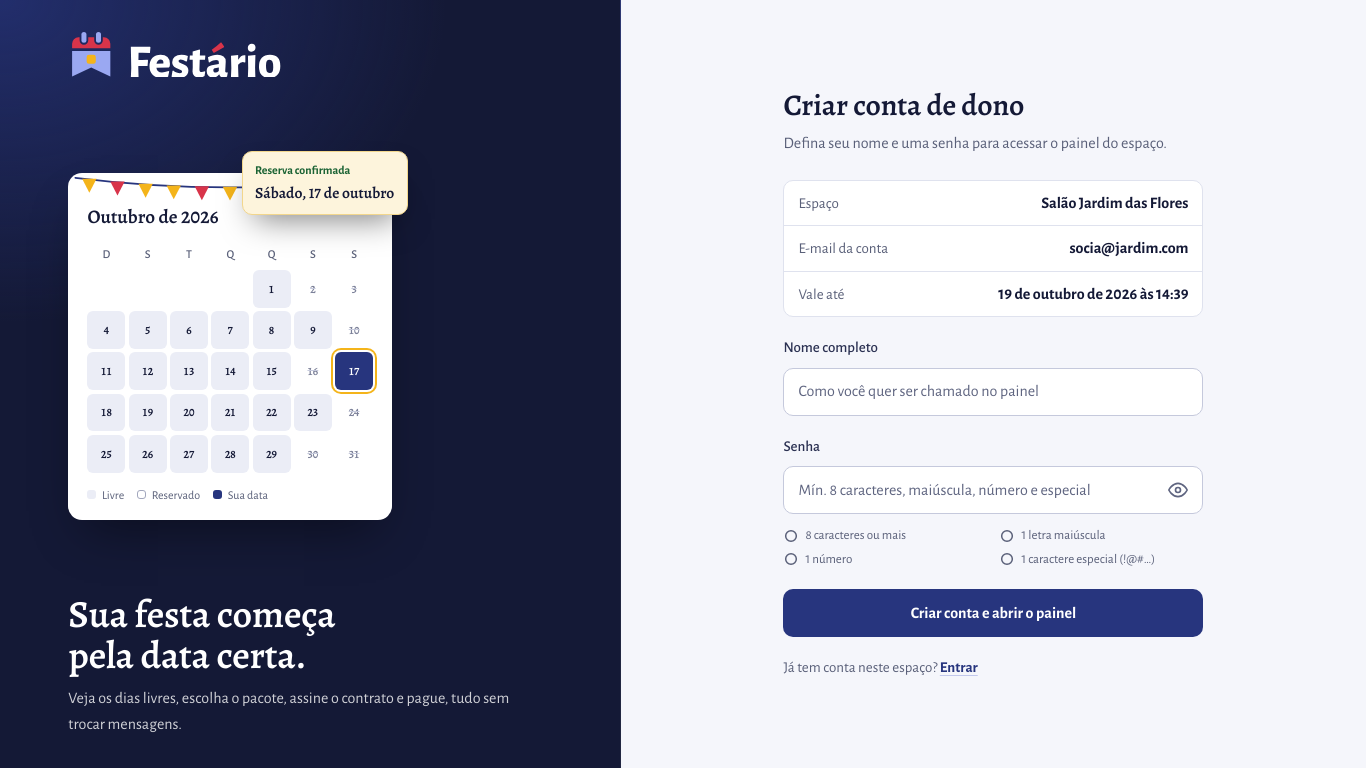
it: InviteAccept - aceite › explains EMAIL_ALREADY_IN_USE inline
The image size is (1366, 768).
In the field labelled "Nome completo": (993, 392) [783,368,1203,416], type "Sócia Nova"
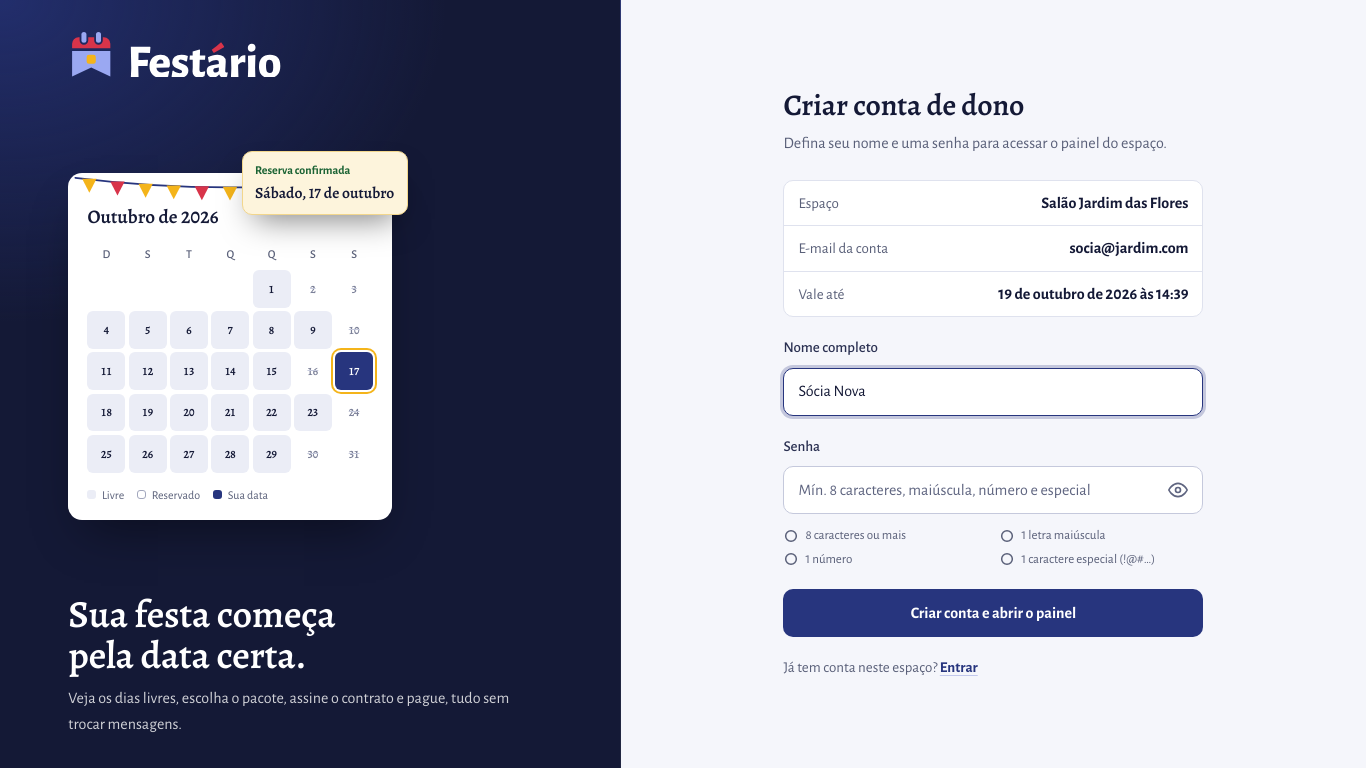
In the password field labelled "Senha": (979, 490) [798,467,1160,513], type "Senha@123"
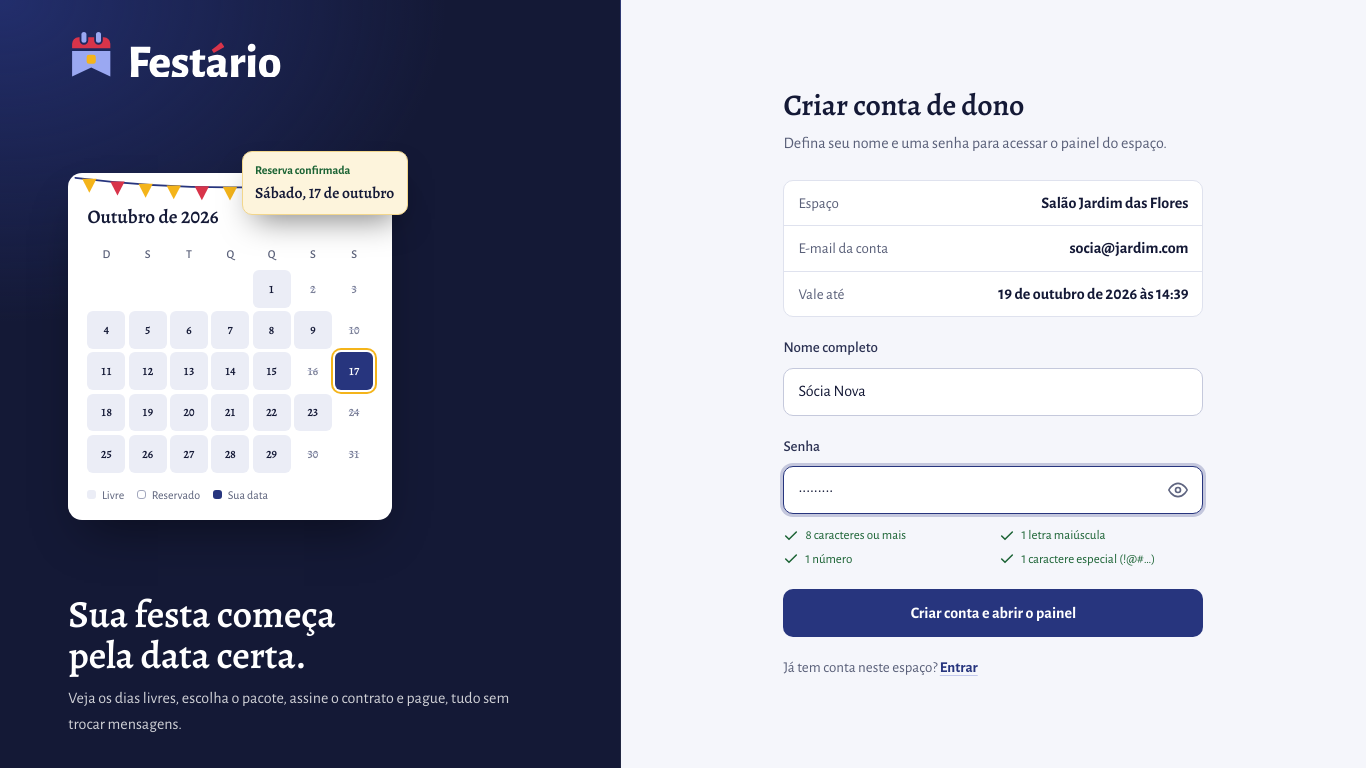
Click the button "Criar conta e abrir o painel": (993, 613) [783,589,1203,637]
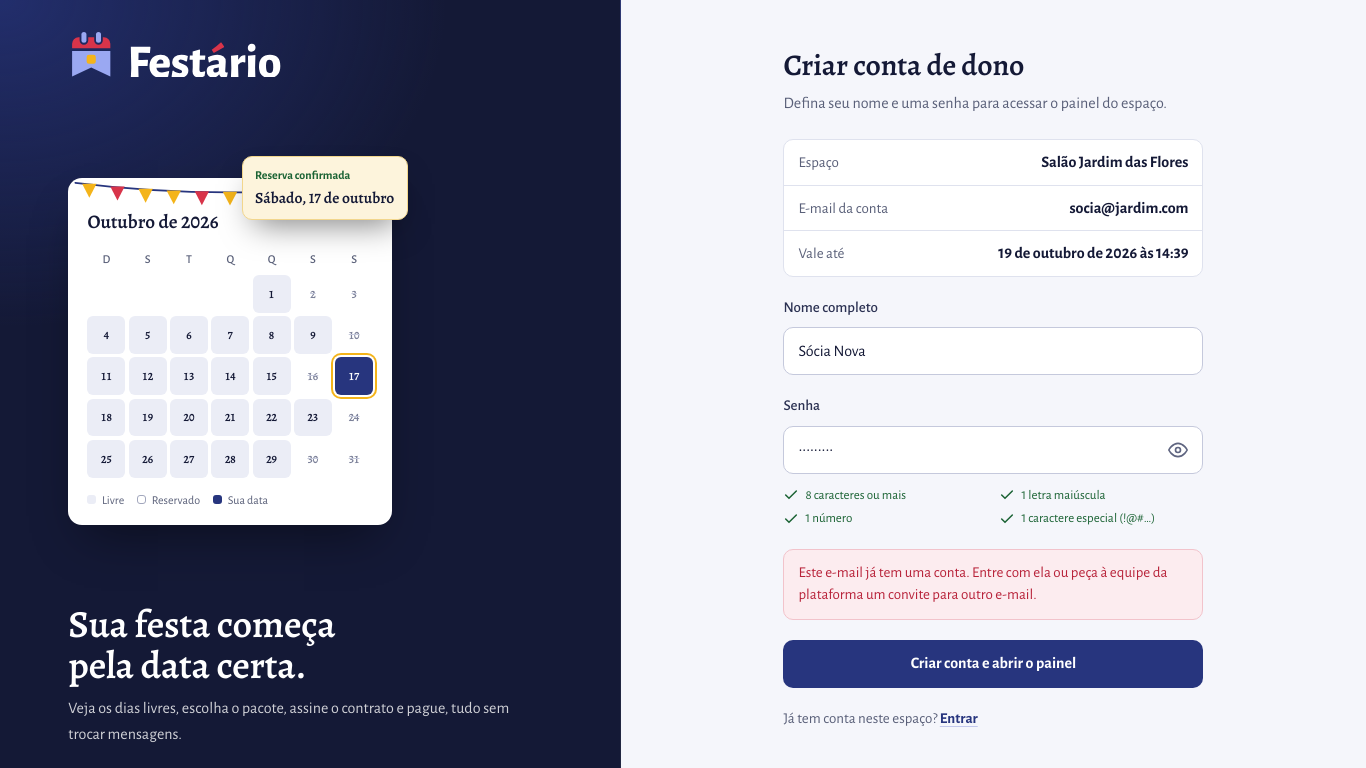
Check: the message shows "já tem uma conta", box [798,565,1167,602]
